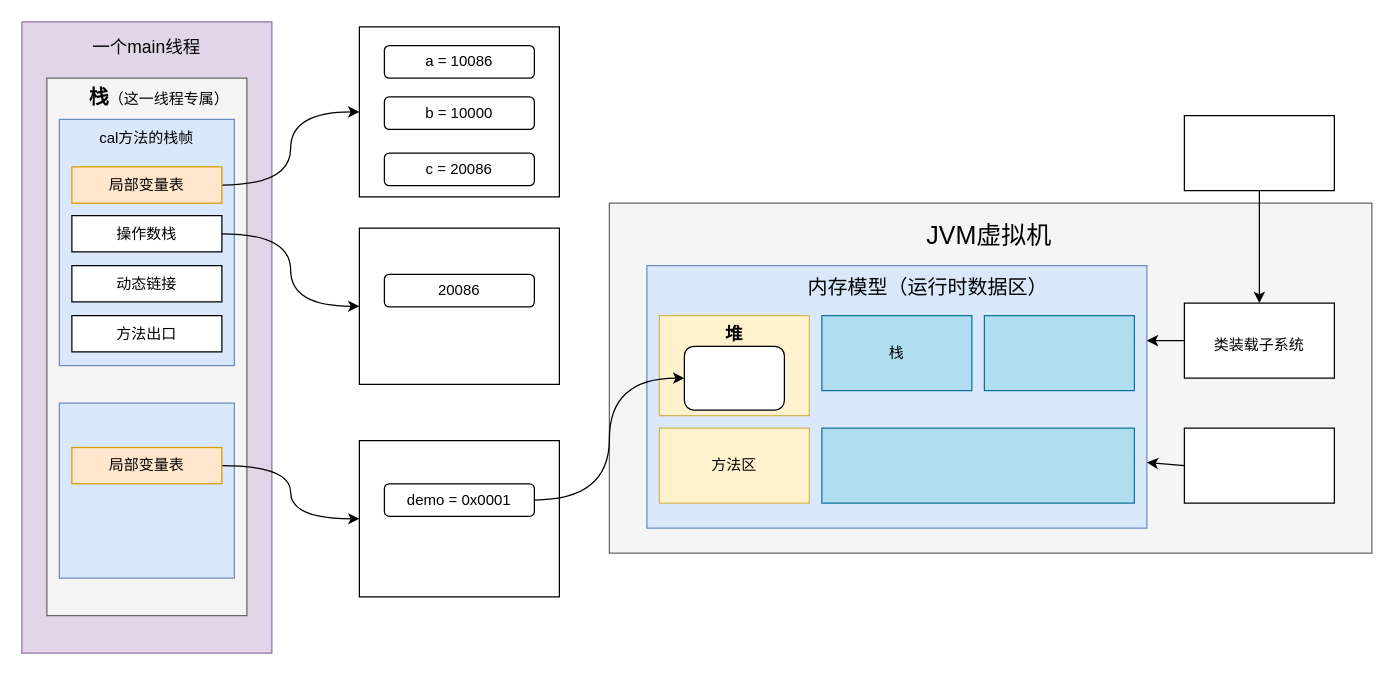
Some shapes in this 1394 by 675 pixel diagram are drawn without their labels. Here are the shapes that lost their labels. From the top down, the box of each, then its label:
(1183, 114, 1334, 191): java 运行类
(983, 314, 1134, 391): 本地方法栈
(683, 345, 784, 410): demo对象 内存地址0x0001
(821, 427, 1134, 503): 程序计数器
(1183, 427, 1334, 503): 字节码执行引擎
(58, 402, 234, 578): main方法的栈帧
